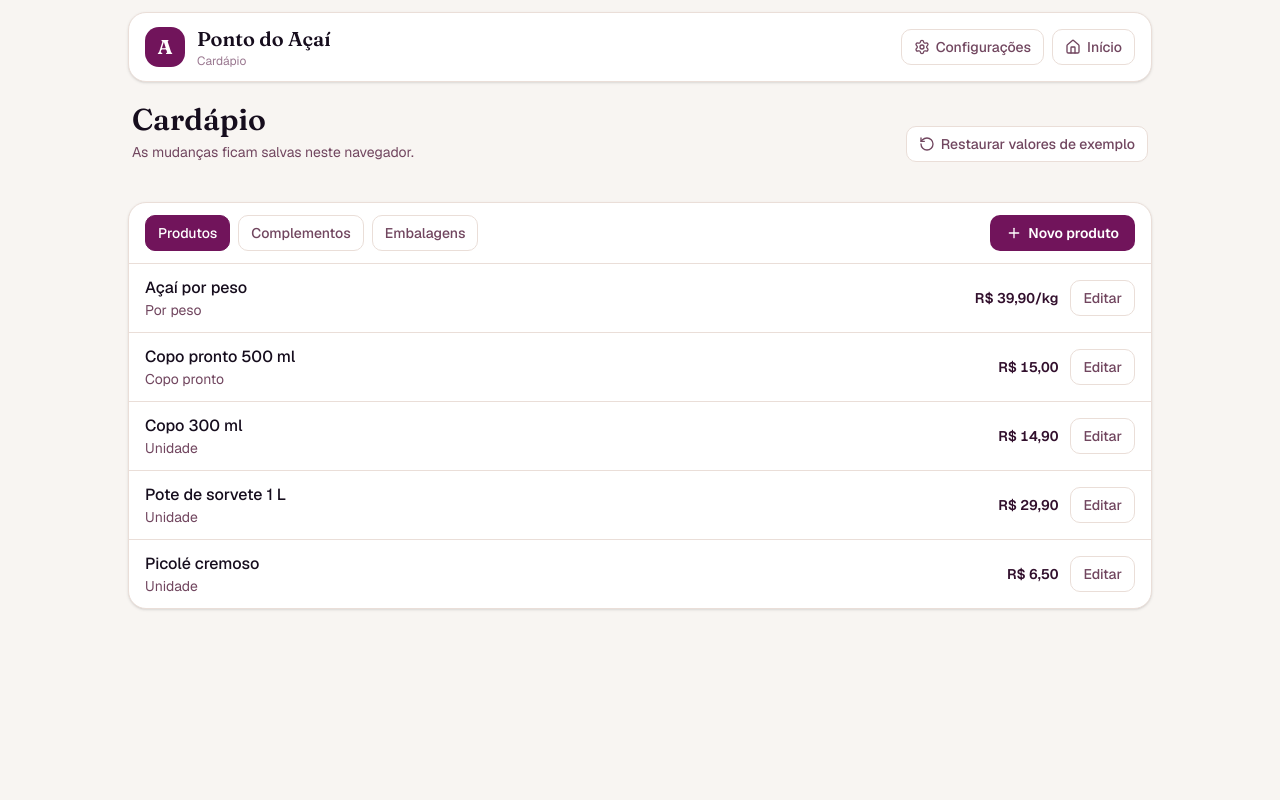
Test: CardapioEditor › edits the açaí price per kg, shows it in the list and saves it in the browser
The width and height of the screenshot is (1280, 800).
Click the button "Editar" next to "R$ 39,90/kg" at (1103, 298), box x1=1070 y1=280 x2=1135 y2=316
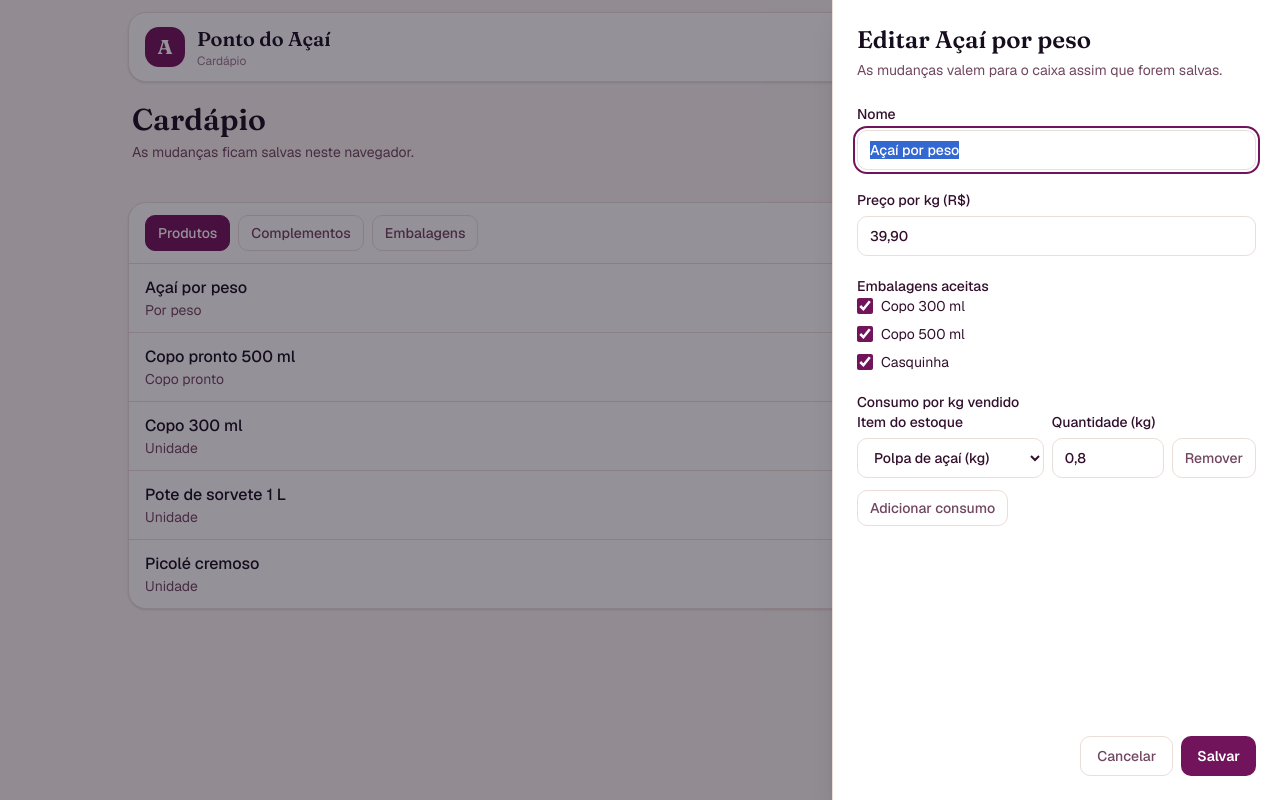
Replace the text in the field labelled "Preço por kg (R$)" with "45,50" at (1056, 236), box x1=857 y1=216 x2=1256 y2=256
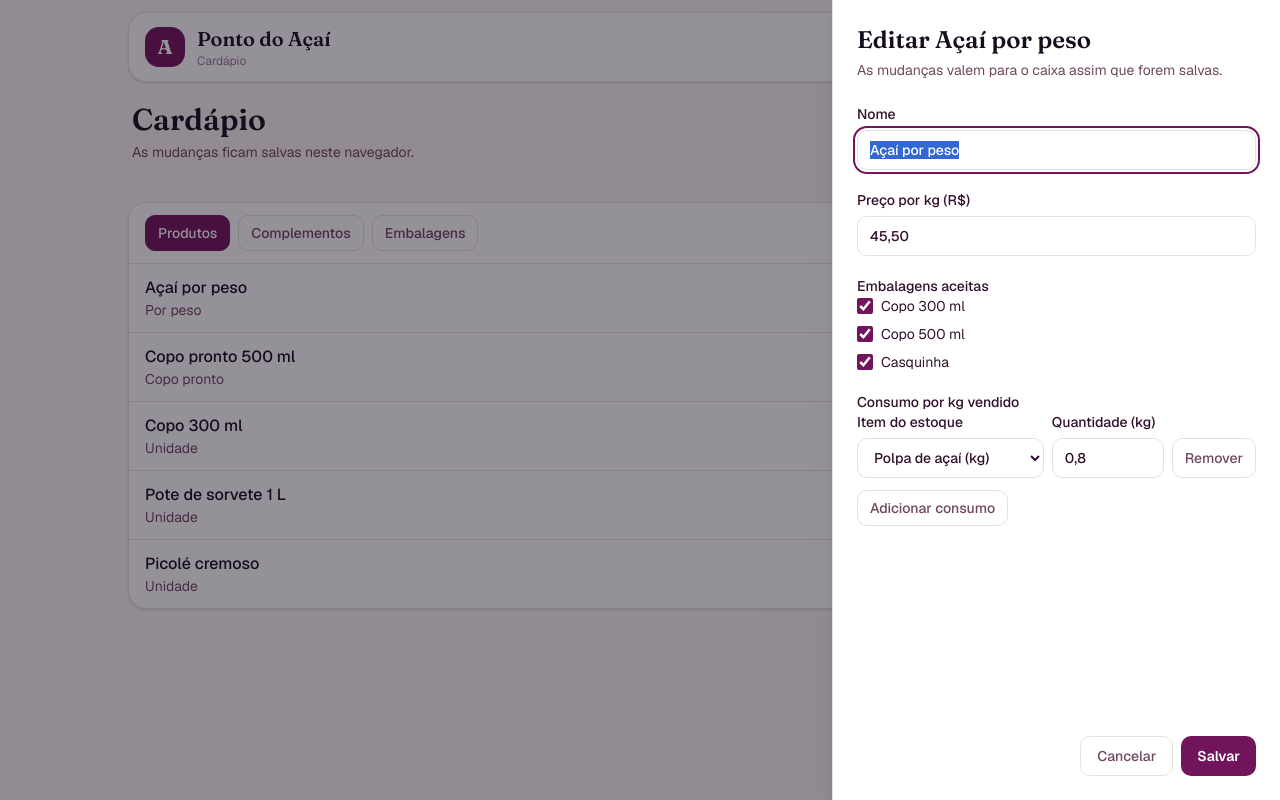
Click the button "Salvar" at (1219, 756), box x1=1181 y1=736 x2=1256 y2=776
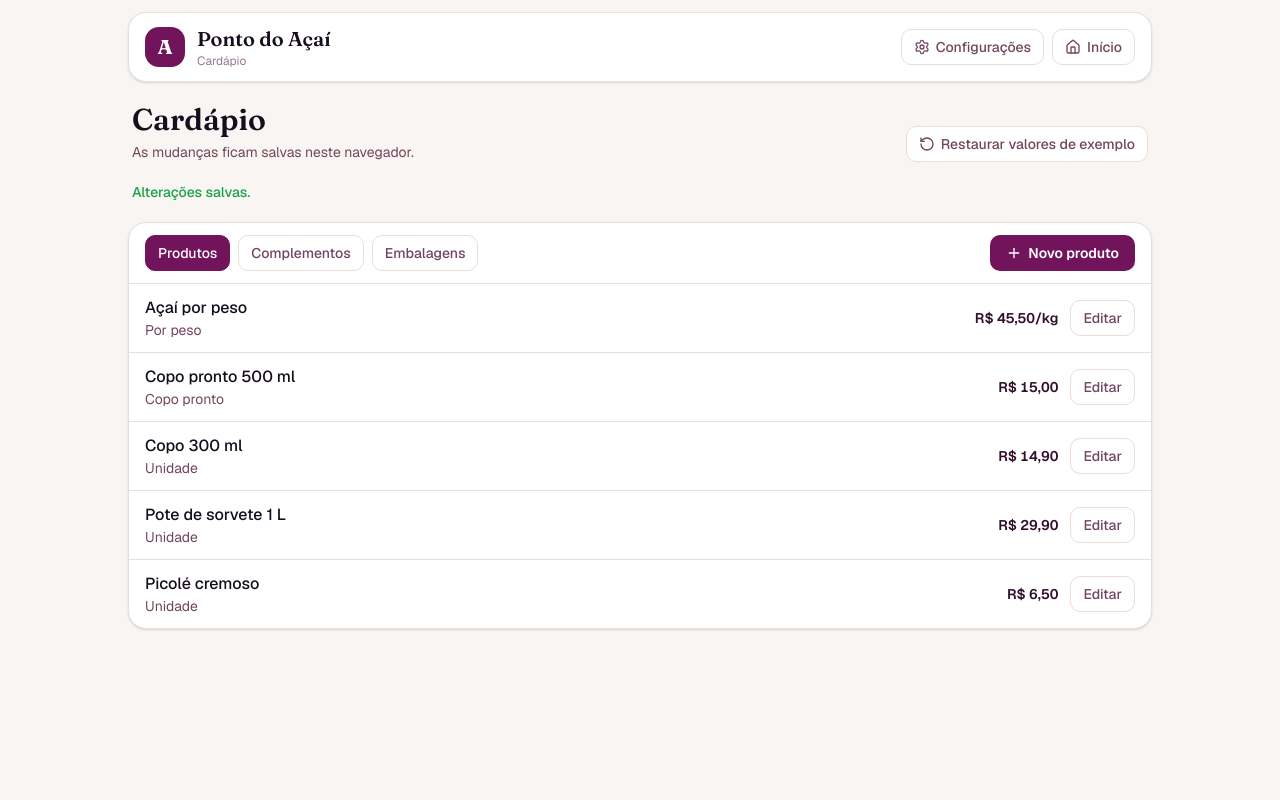
Check: the dialog is gone
Check: the text "R$ 45,50/kg" is shown, box x1=975 y1=308 x2=1058 y2=328
Check: the text "Alterações salvas." is shown, box x1=132 y1=183 x2=250 y2=201
